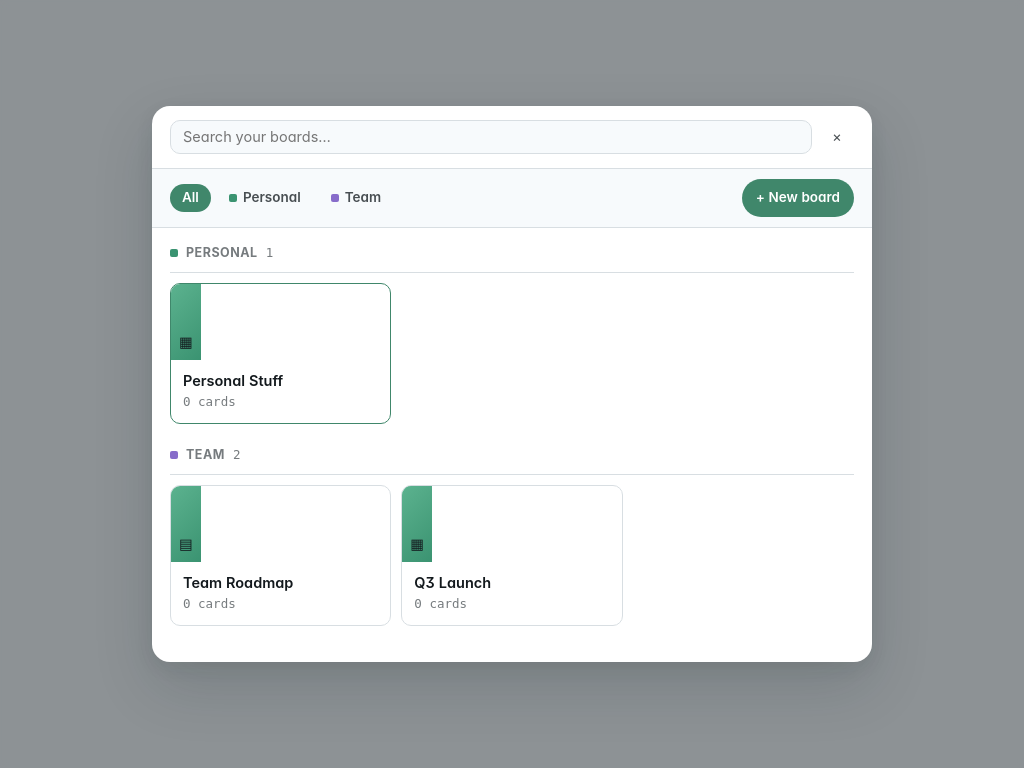
Scenario: BoardSwitcher (BS1..BS15) › BS2: search filters by board.name[lang] case-insensitive
Step 1. Type "team" into the field with test id "bs-search-input" → (491, 137), box left=181, top=125, right=801, bottom=148
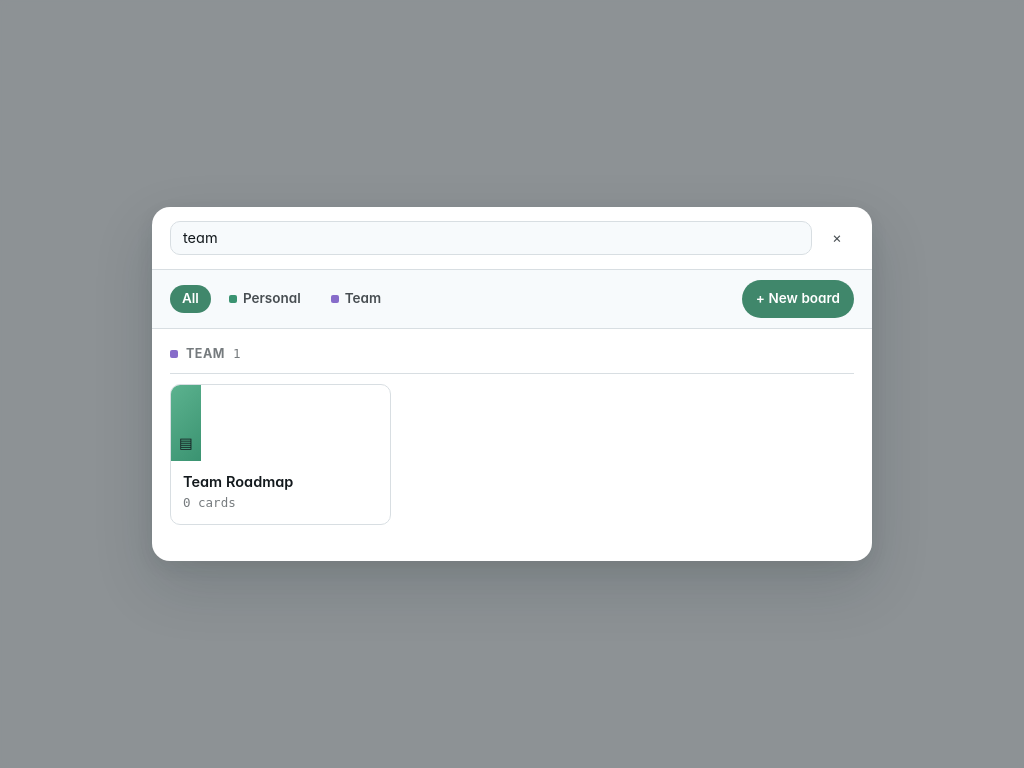
Expected: the button with test id "bs-card-b2" is shown, left=170, top=384, right=391, bottom=525
Expected: the button with test id "bs-card-b1" is gone
Expected: the button with test id "bs-card-b3" is gone
